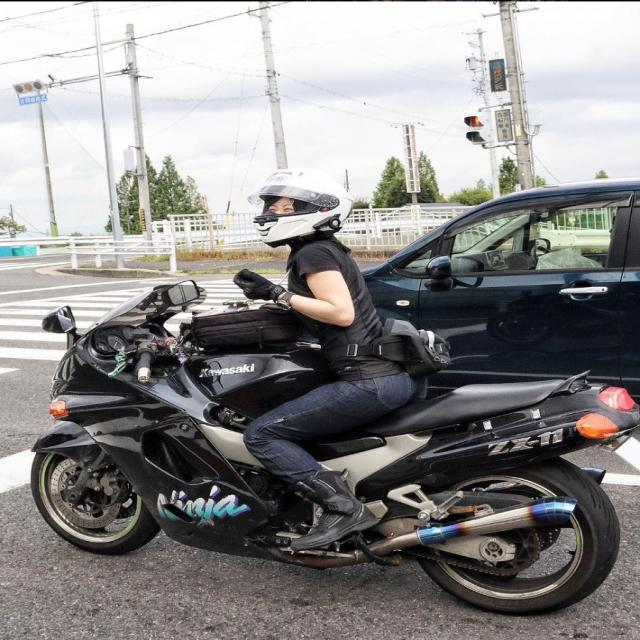helmet: (244, 165, 358, 250)
